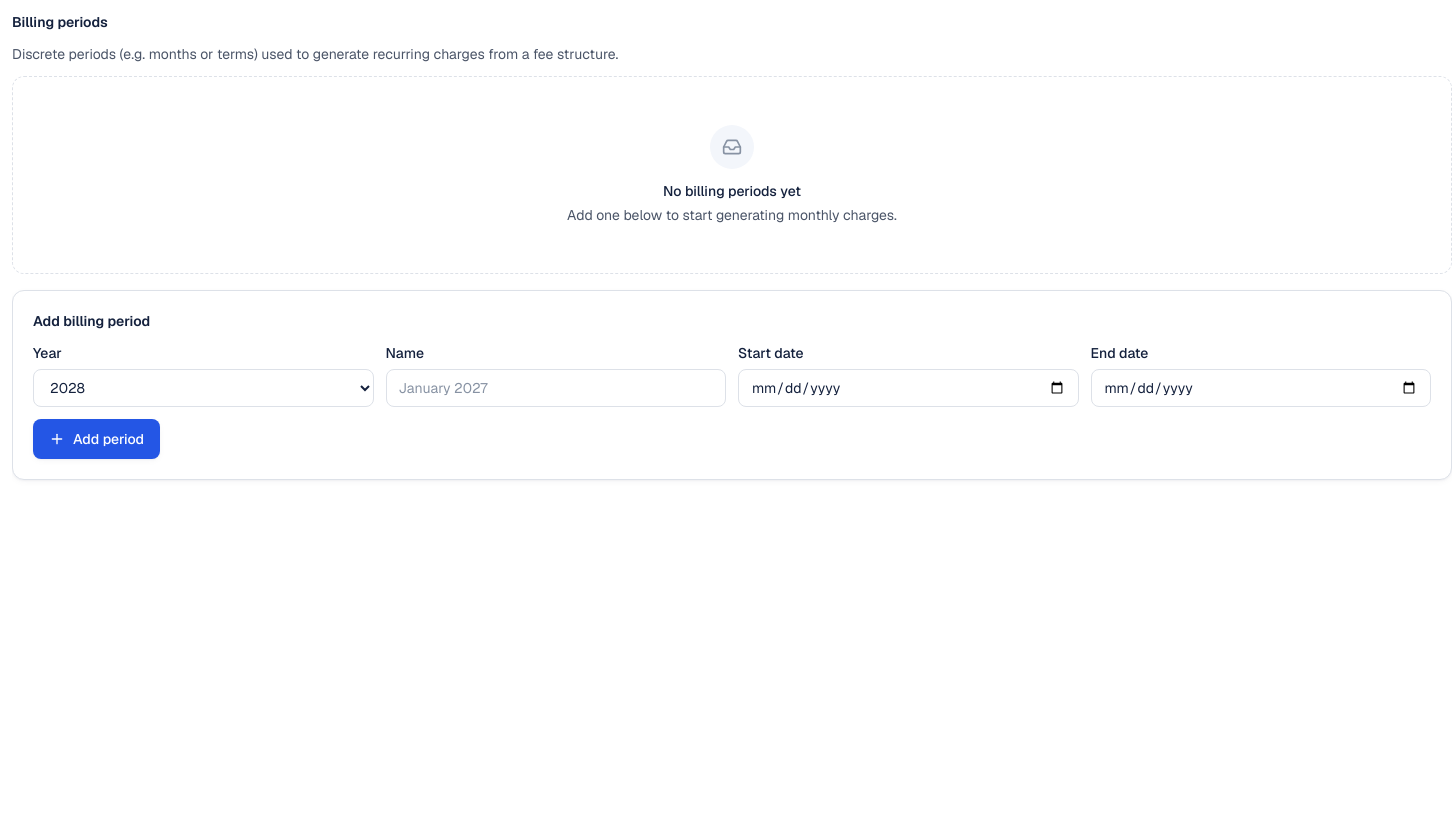
Scenario: BillingPeriodsTab — create billing period (mutation) › clears the name/date fields, reloads the list, and shows a success toast after a successful save
The image size is (1452, 822).
Check: the text "No billing periods yet" is shown, box [663,181,801,201]
In the field with placeholder "January 2027": (556, 388) [386,369,726,407], type "January"
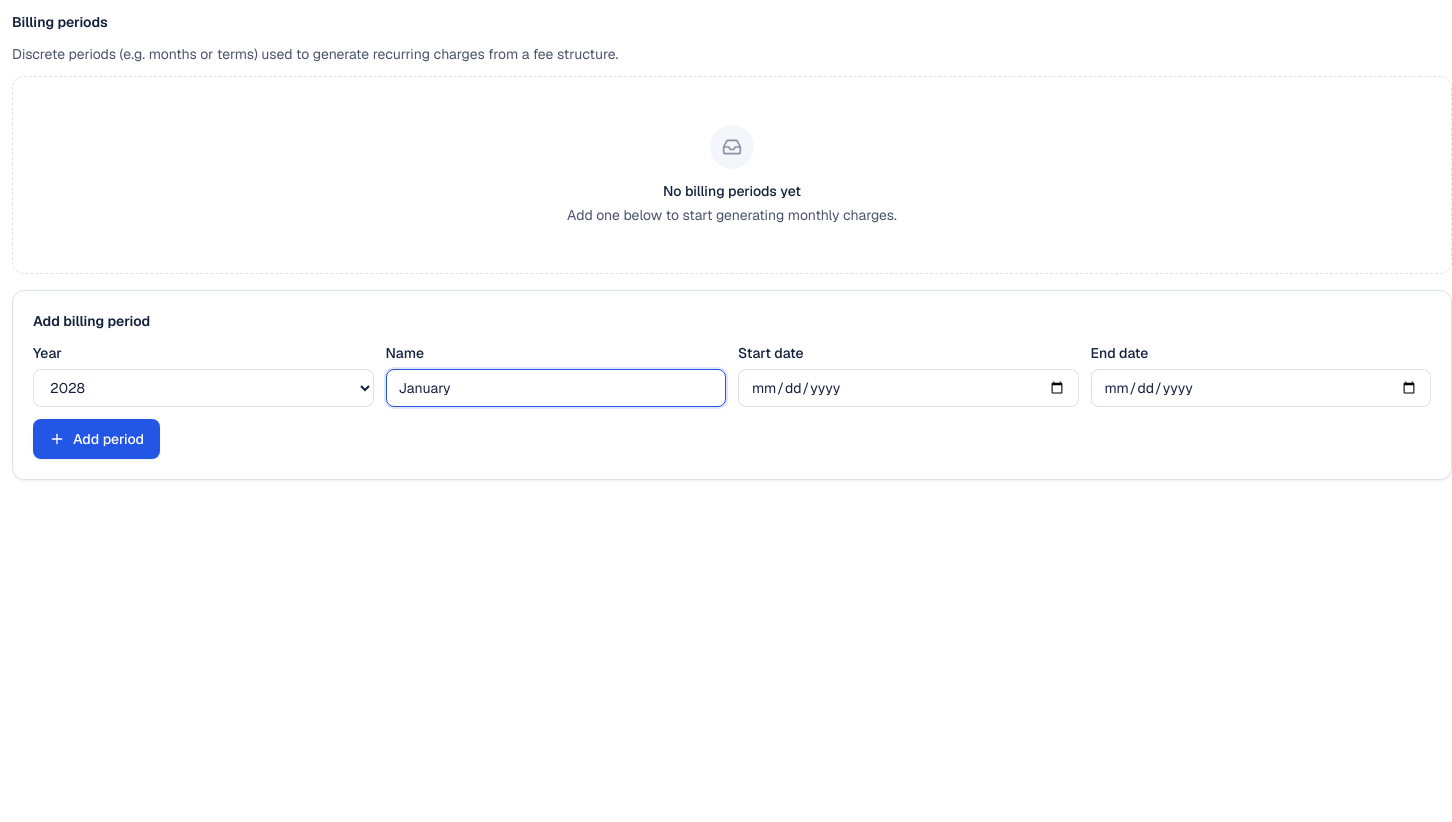
In the date field below "Start date": (908, 388) [738,369,1078,407], type "2028-01-01"
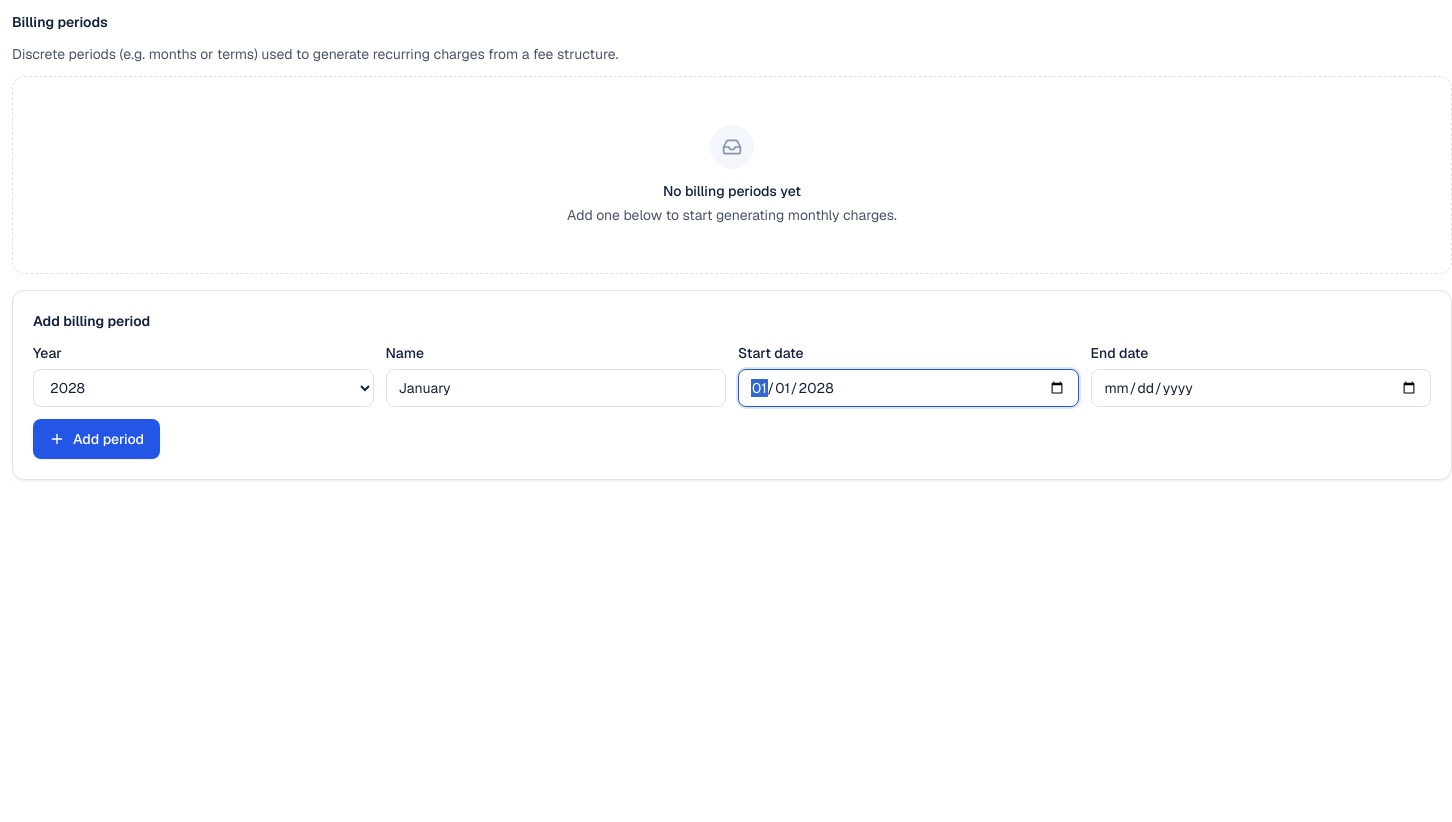
In the date field below "End date": (1261, 388) [1090,369,1431,407], type "2028-01-31"
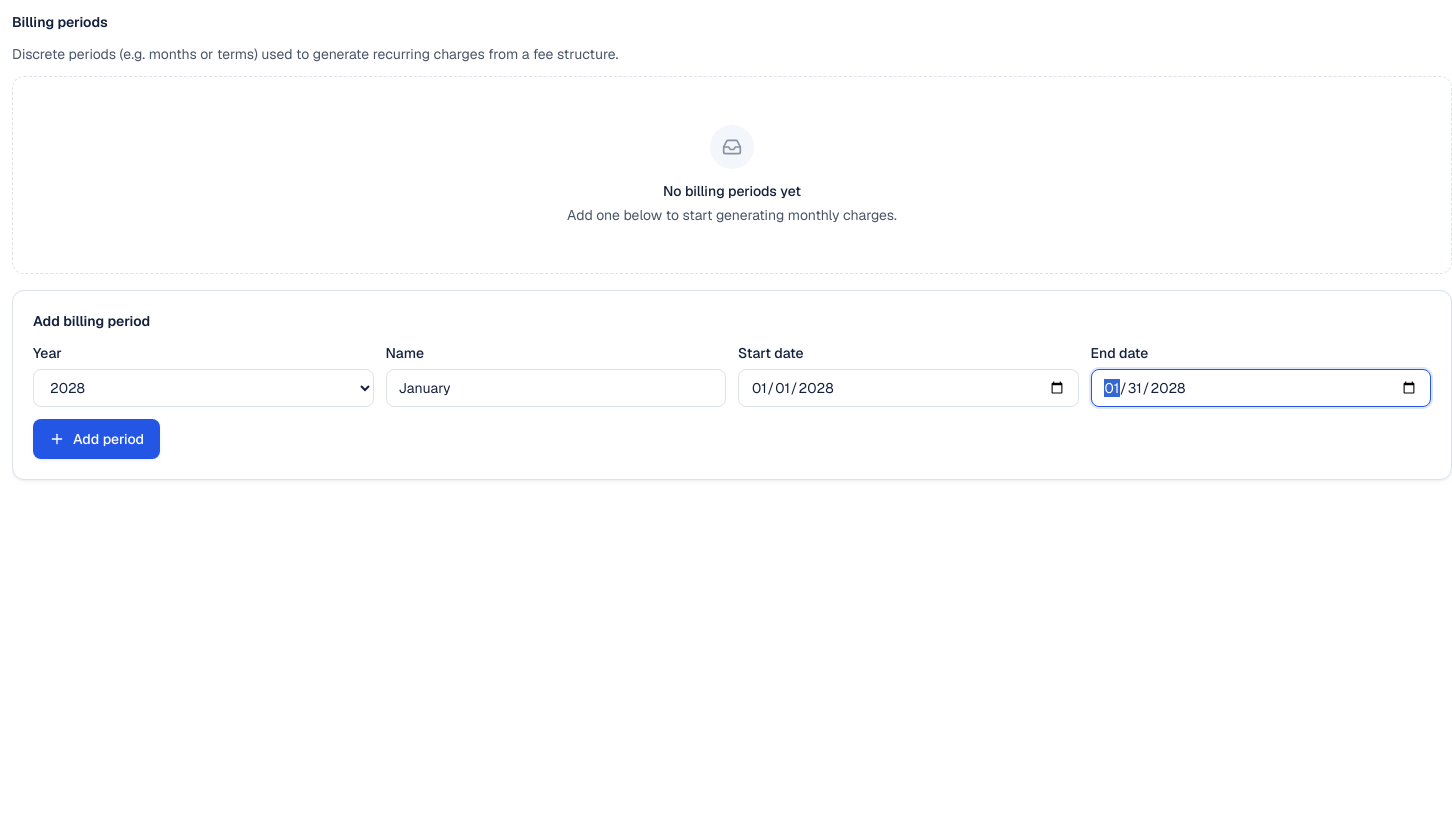
Click the button "Add period": (97, 439) [33,419,160,459]
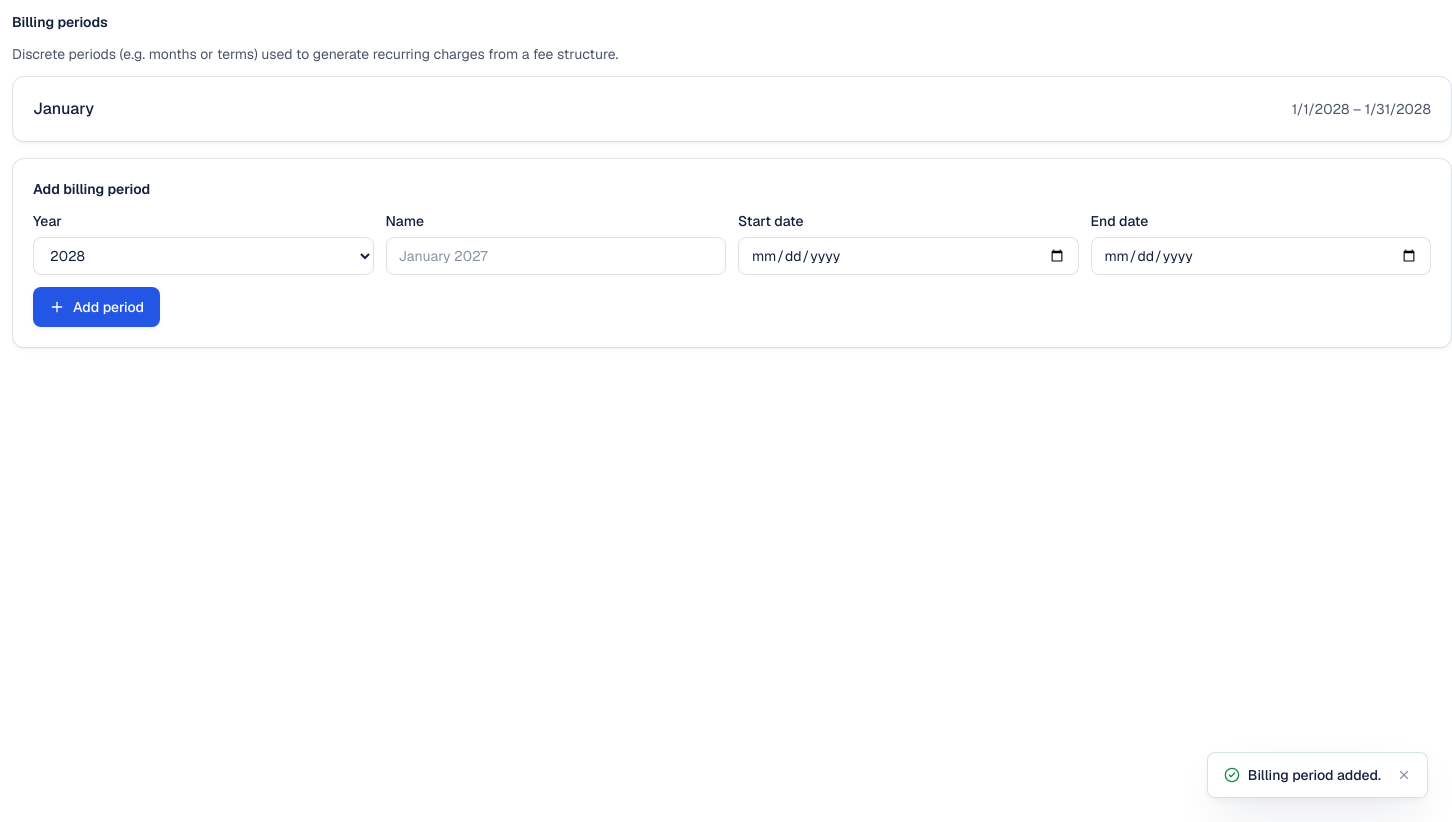
Check: the text "Billing period added." is shown, box [1248,765,1381,785]
Check: the field with placeholder "January 2027" is empty, box [386,237,726,275]
Check: the date field below "Start date" is empty, box [738,237,1078,275]
